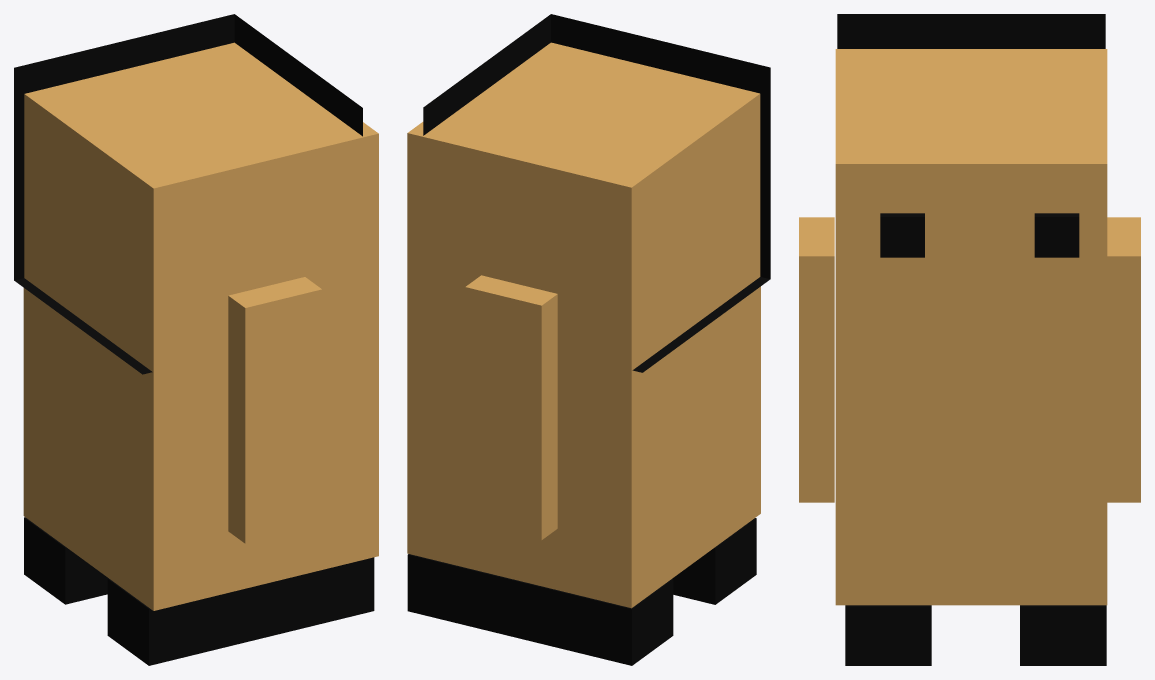
The model's file is steeve.glb.
3 renders of one model, left to right at view 1: azimuth 30°, elevation 25°; view 2: azimuth 150°, elevation 25°; view 3: azimuth 270°, elevation 25°, orthographic. The views are drawn at different scales.
Parts seen in each view (by area): view 1: Cube.002; view 2: Cube.002; view 3: Cube.002.
Boxes of the visible parts, bbox=[...] form: Cube.002: bbox=[14, 14, 378, 665]; Cube.002: bbox=[407, 14, 770, 665]; Cube.002: bbox=[799, 14, 1140, 665].
Size of the model in its own units: 2.16 by 4.32 by 2.52.
